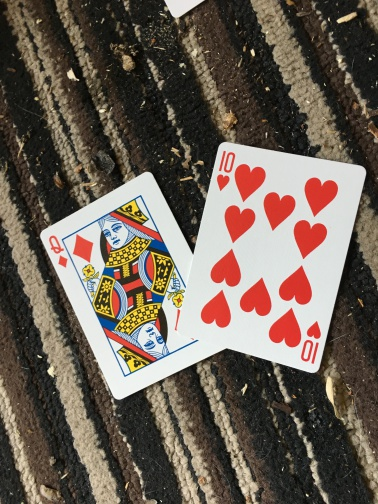queen: (39, 172, 192, 401)
ten: (185, 140, 363, 374)
